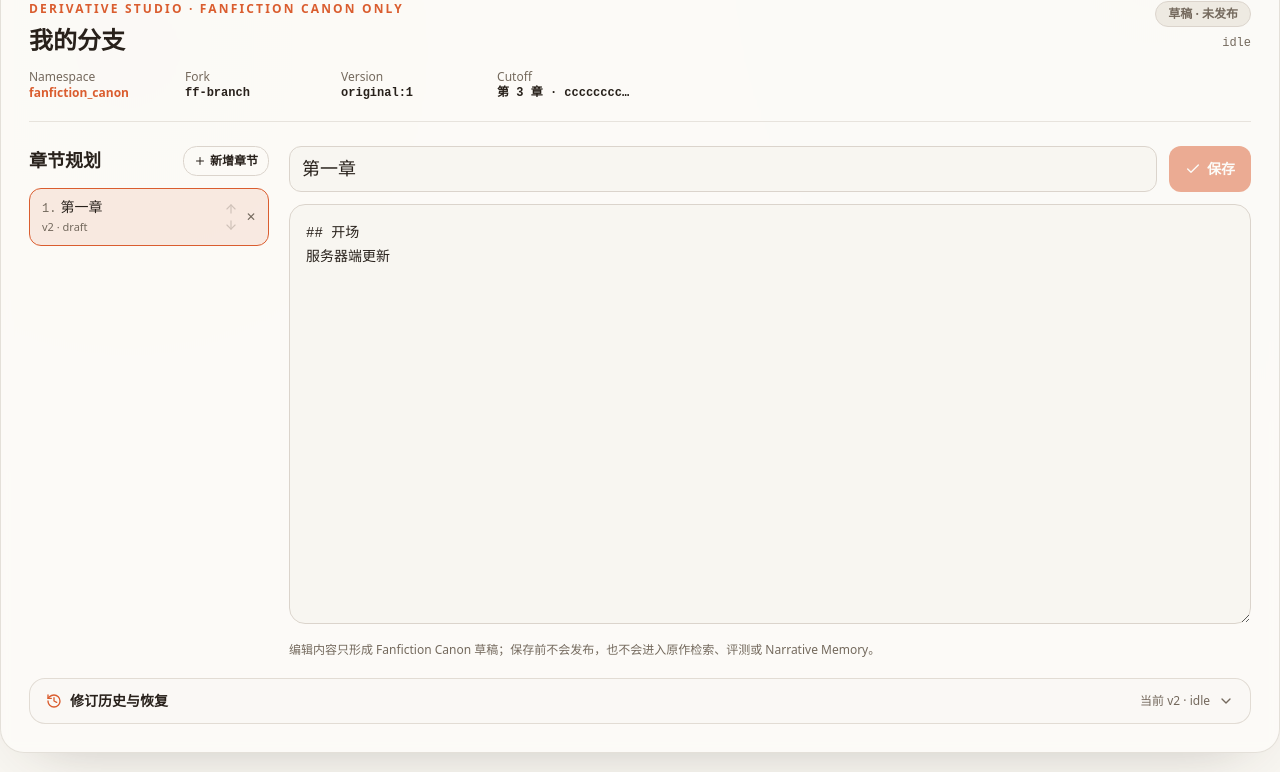
MarkdownEditor › embeds the revision history/recovery/rollback panel (36-04)
Expected: the text "1.第一章" is shown, [42,197,102,216]
Expected: the text with test id "revision-history-summary" shows "当前 v2", [1140,693,1210,709]
# Opening it fetches the newest-first immutable history for the chapter.
Click the button with test id "revision-history-toggle" at (119, 700), box [30,679,1250,723]
(page scrolled)
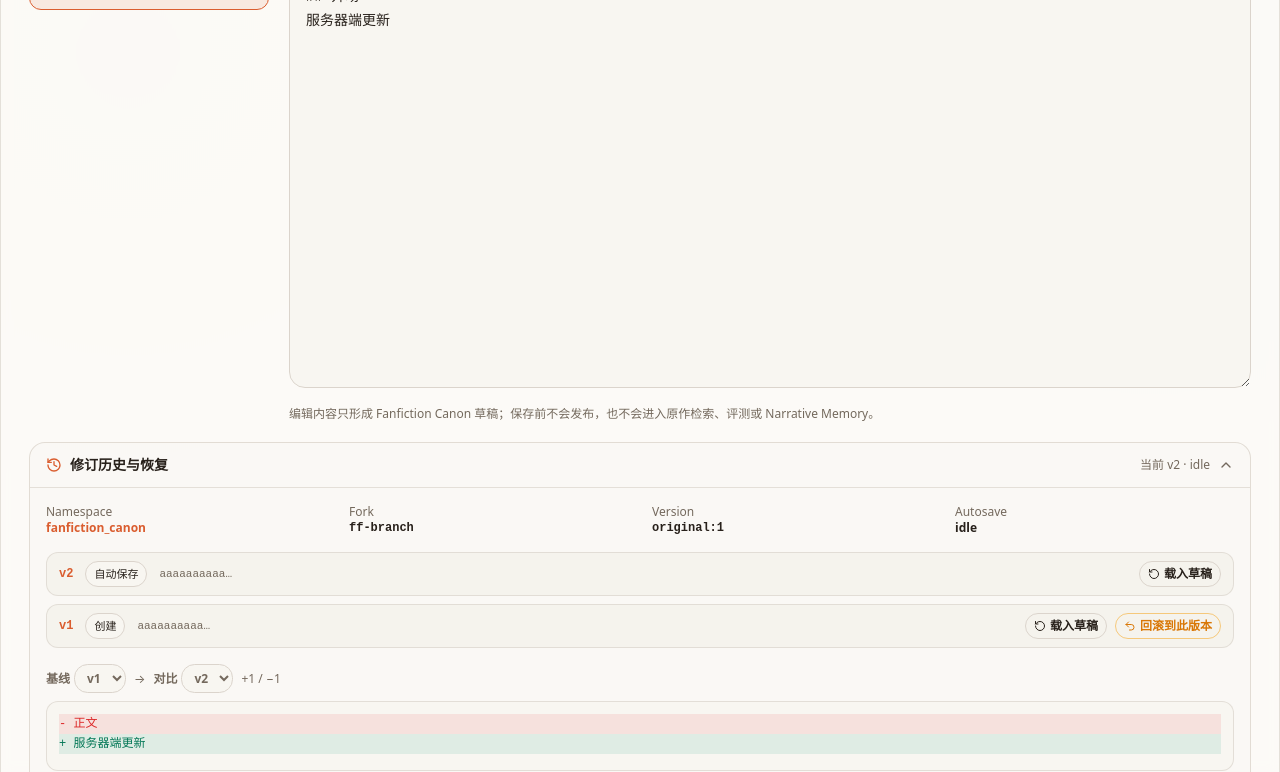
Expected: the number of elements with test id "revision-row" is 2, [46,552,1234,596]; [46,604,1234,648]
Expected: the element with test id "revision-row" shows "v2", [46,552,1234,596]
Expected: the button with test id "revision-rollback" is shown, [1115,613,1221,639]
